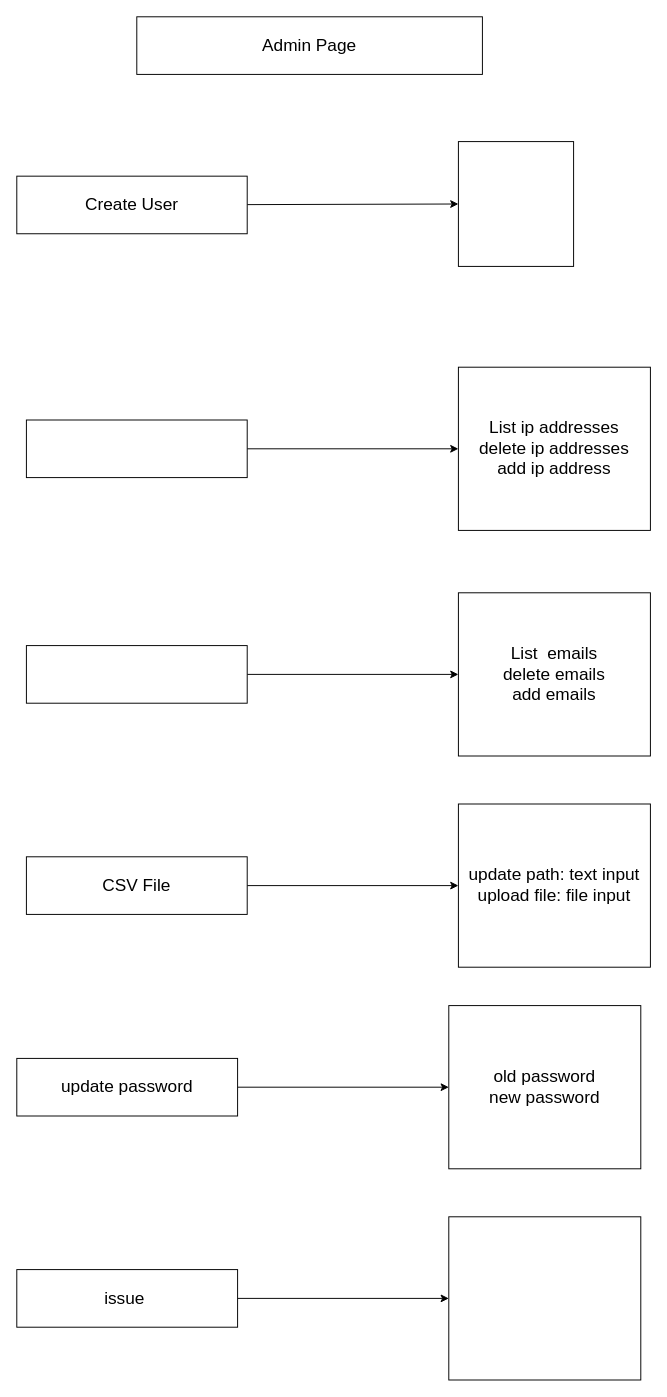
This 667x1397 diagram has some shape labels left out. The shapes that lost their labels are listed below. From the top down, each one's centre as x and y in pixels, then its label:
(515,203): inputs name email password
(136,448): IP Address
(136,674): Email
(544,1298): list issues resolve issues
